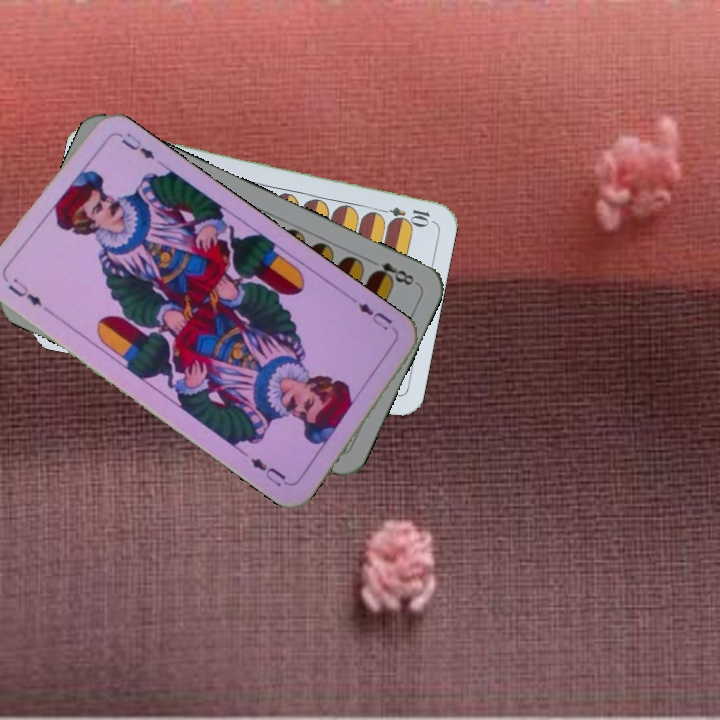E10: (373, 202, 432, 226)
E8: (364, 255, 417, 288)
EU: (348, 294, 395, 333), (4, 274, 45, 310)
